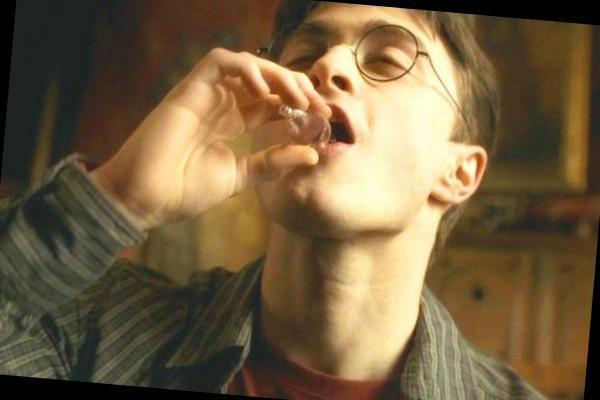Drunk: (273, 13, 434, 219)
